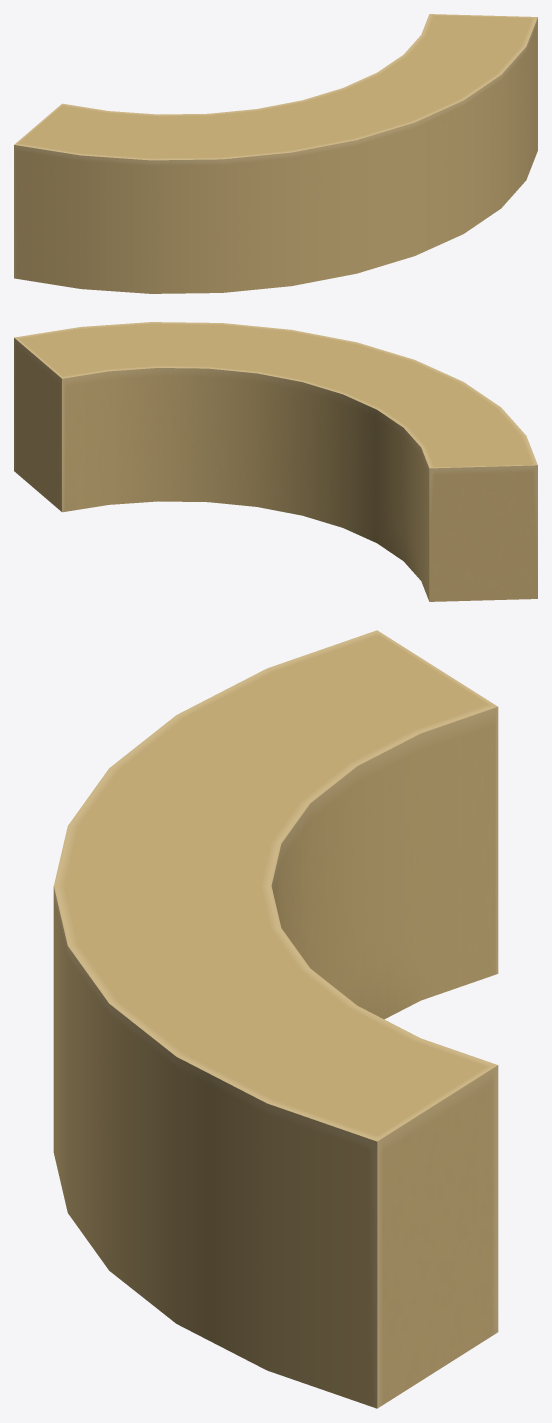
The model's file is borda02_1.fbx.
The picture shows the model from 3 angles, top to bottom: view 1: azimuth 30°, elevation 25°; view 2: azimuth 150°, elevation 25°; view 3: azimuth 270°, elevation 25°; orthographic projection. The views are drawn at different scales.
Visible parts, largest first — view 1: borda02_1; view 2: borda02_1; view 3: borda02_1.
Boxes of the visible parts, x1=… form: borda02_1: x1=14, y1=14, x2=537, y2=293; borda02_1: x1=14, y1=322, x2=537, y2=601; borda02_1: x1=53, y1=630, x2=498, y2=1408.
Bounding box in the file's own units: 1159 × 282 × 426.
